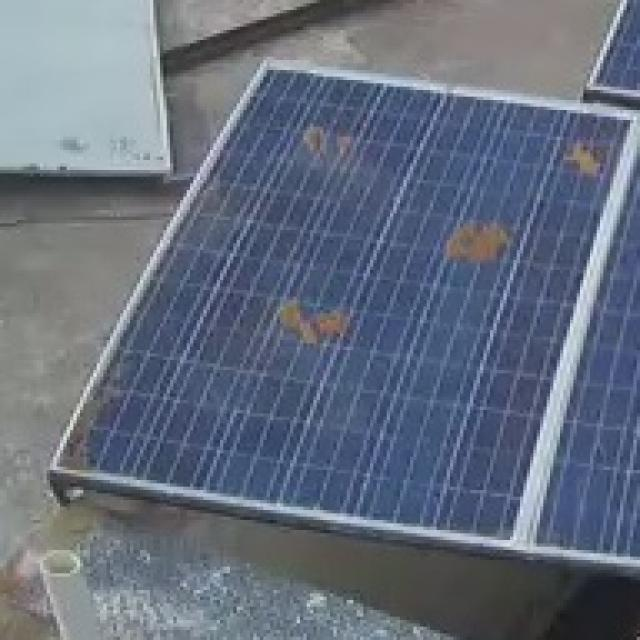Dusty: (432, 211, 521, 272), (267, 290, 351, 348), (296, 114, 356, 164), (550, 141, 605, 184), (204, 190, 235, 235), (96, 364, 134, 395), (62, 443, 91, 468), (80, 403, 100, 430)
